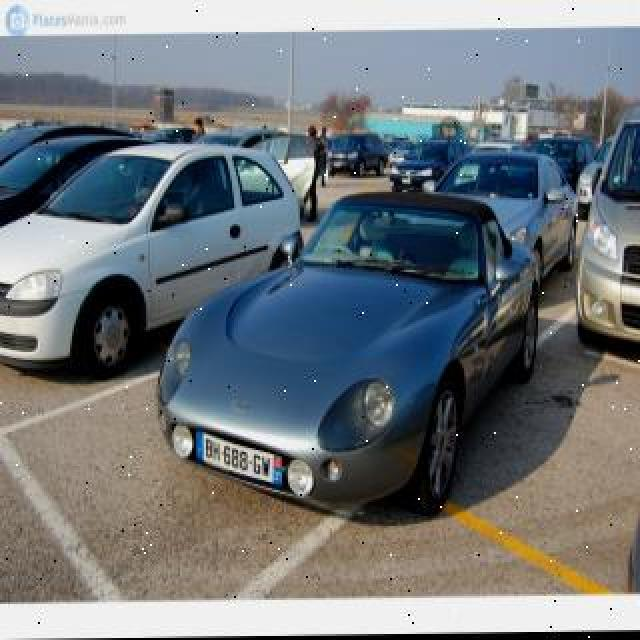EU: (193, 432, 282, 489)
France: (195, 432, 204, 462)
